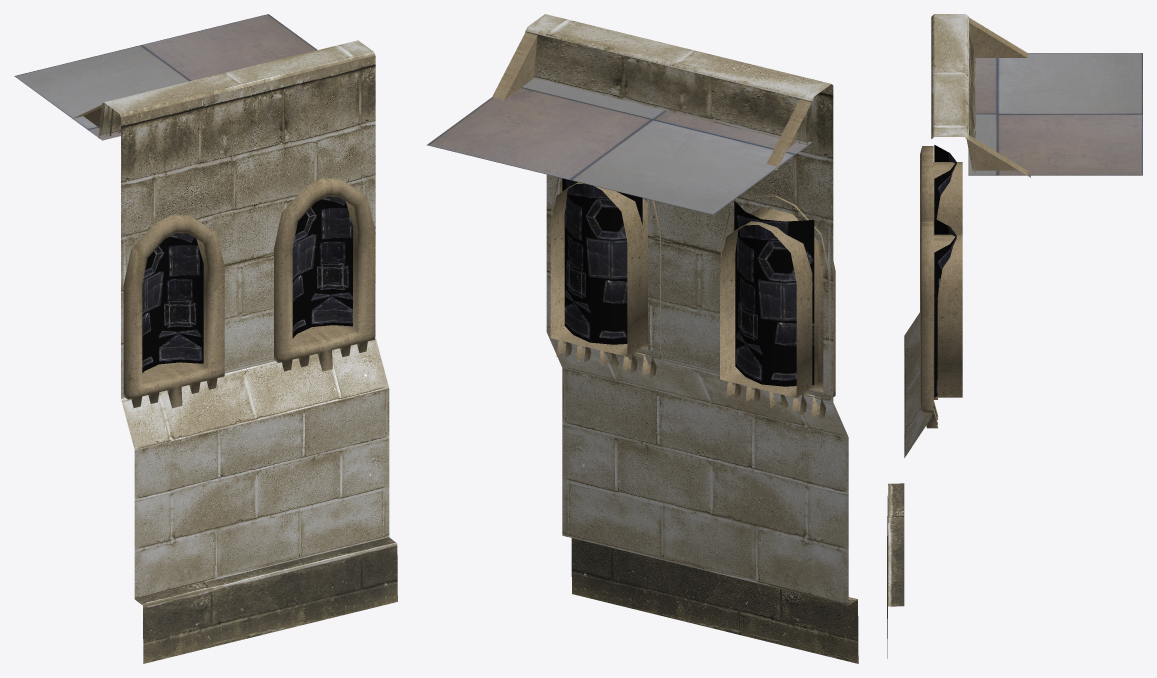
The model's file is castle-wall-w-window-small-2.fbx.
3 views of the same model, side by side, from view 1: azimuth 30°, elevation 25°; view 2: azimuth 150°, elevation 25°; view 3: azimuth 270°, elevation 25° (orthographic). The views are drawn at different scales.
Visible parts, largest first — view 1: castle-wall-w-window-small-2; view 2: castle-wall-w-window-small-2; view 3: castle-wall-w-window-small-2.
Part boxes in pixels (x1,y1,x2,y2): castle-wall-w-window-small-2: (14,14,397,663); castle-wall-w-window-small-2: (426,14,858,663); castle-wall-w-window-small-2: (887,14,1142,658).
Bounding box in the file's own units: 200 × 400 × 176.
